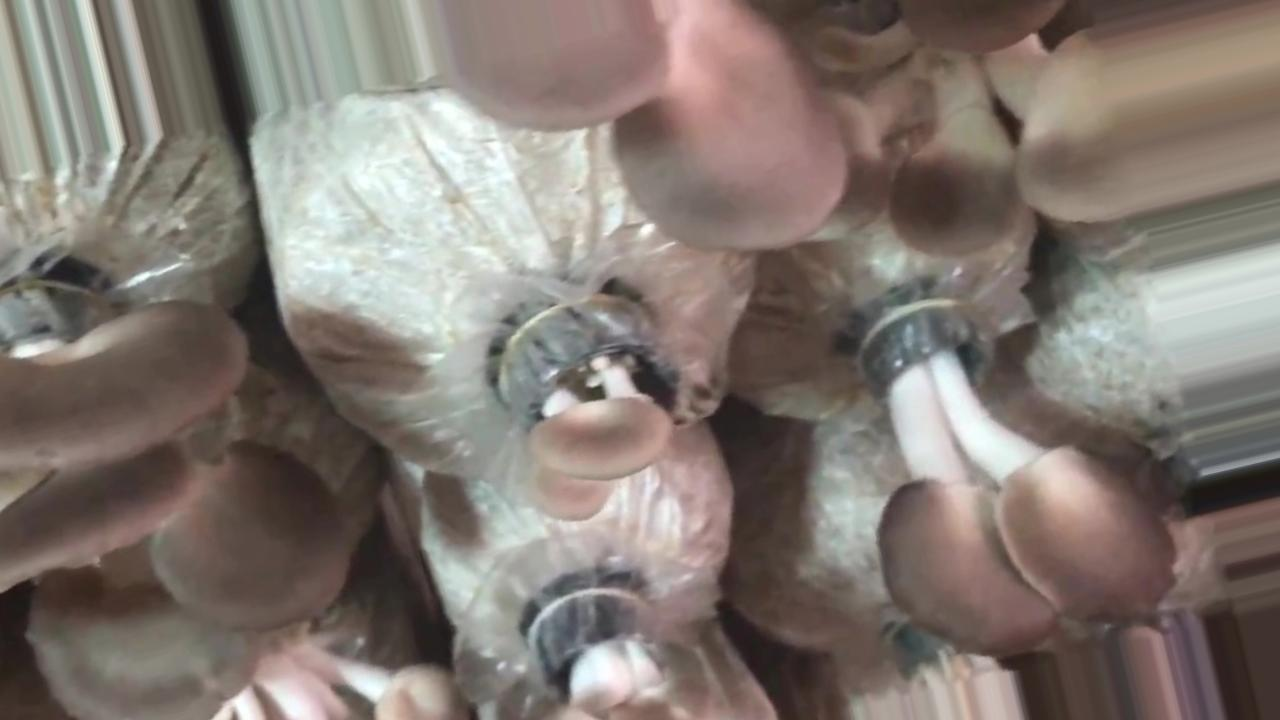nam: (441, 1, 1275, 255), (1, 285, 346, 720), (860, 303, 1173, 657), (505, 293, 671, 524)
